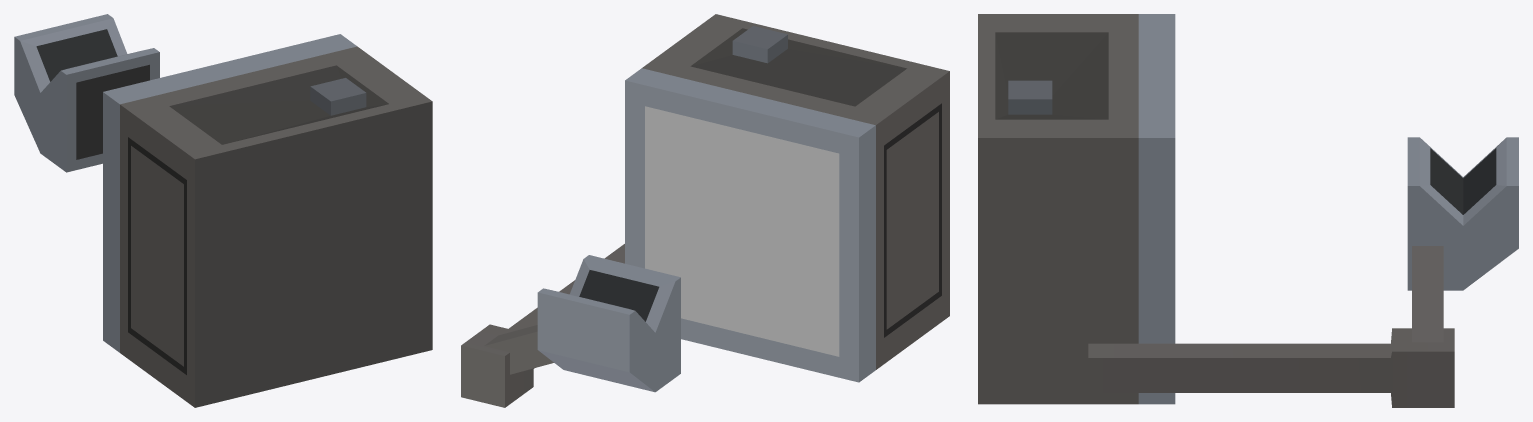
The model's file is OverHeadProjector.glb.
3 views of the same model, side by side, from view 1: azimuth 30°, elevation 25°; view 2: azimuth 150°, elevation 25°; view 3: azimuth 270°, elevation 25° (orthographic). The views are drawn at different scales.
Parts seen in each view (by area): view 1: SO_OverheadProjector; view 2: SO_OverheadProjector; view 3: SO_OverheadProjector.
Boxes of the visible parts, box(x1,y1,x2,y2) form: SO_OverheadProjector: box(14, 14, 432, 407); SO_OverheadProjector: box(461, 14, 949, 407); SO_OverheadProjector: box(978, 14, 1518, 407).
Size of the model in its own units: 0.9215 by 0.836 by 1.48.
Materials: 1 (1 with a texture image).
